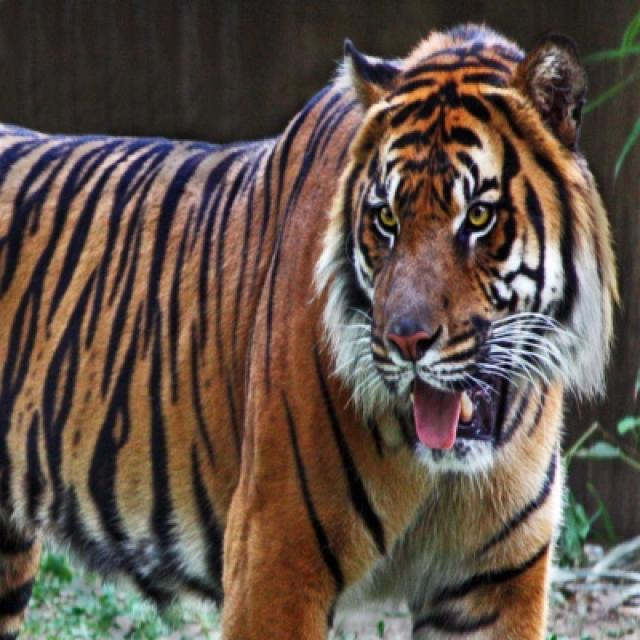Tiger: (0, 24, 611, 638)
